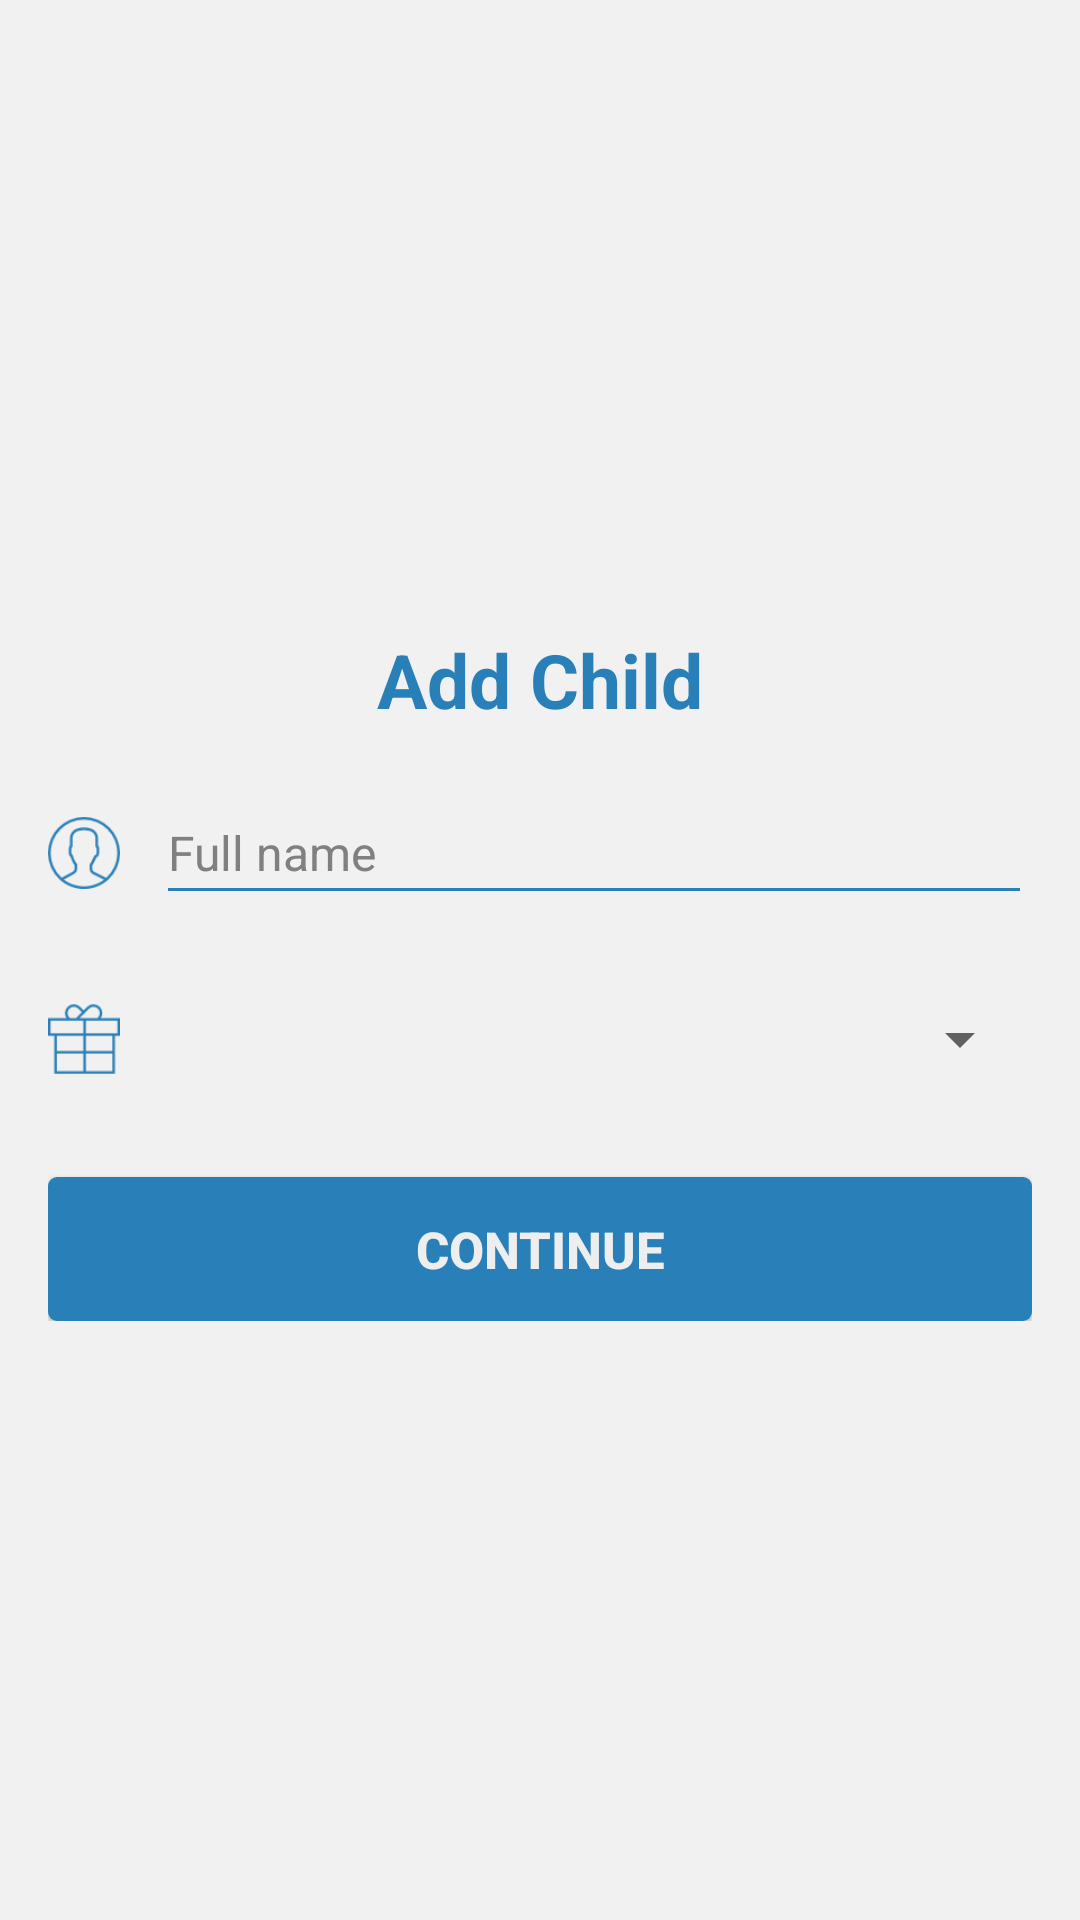

Where to tap for icons on this 1080x1920 app screen, as (x,y):
birth: (84,1039)
user: (84,853)
